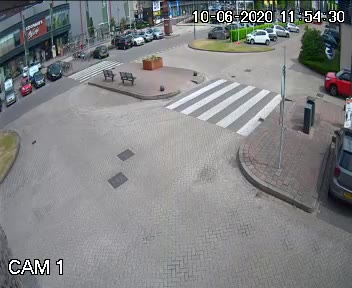car: (319, 63, 351, 93)
